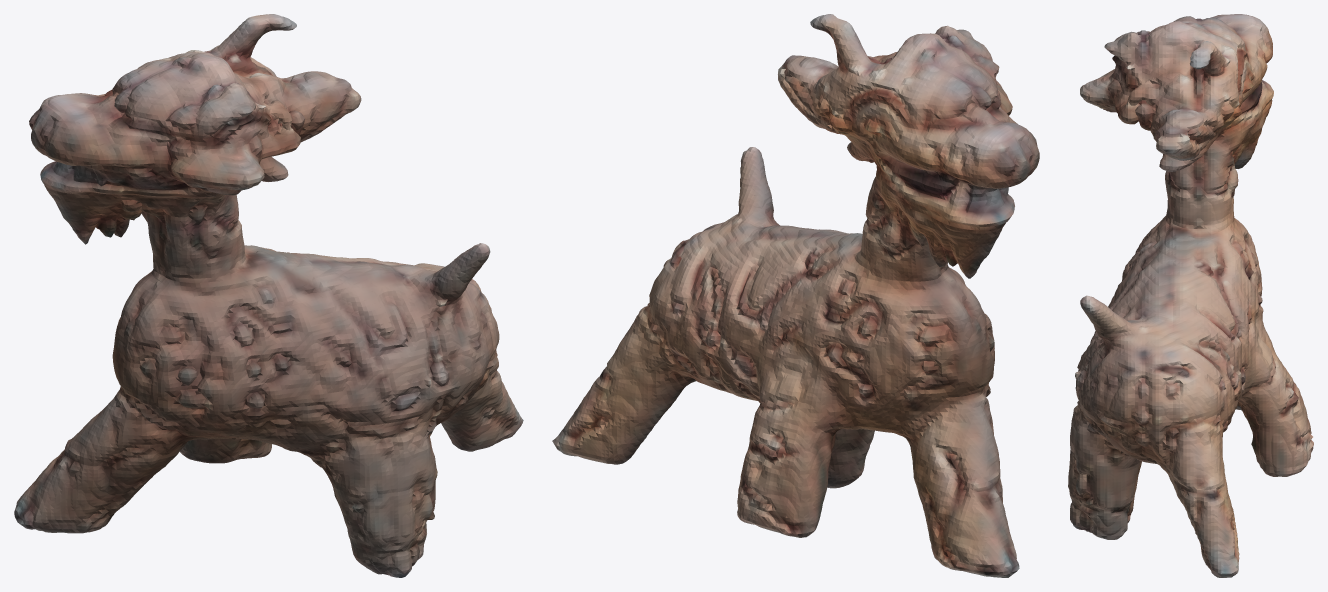
Rendered from jawatengah.glb.
3 views of the same model, side by side, from view 1: azimuth 30°, elevation 25°; view 2: azimuth 150°, elevation 25°; view 3: azimuth 270°, elevation 25° (orthographic). The views are drawn at different scales.
Visible parts, largest first — view 1: world; view 2: world; view 3: world.
Part boxes in pixels (left/top/right/bottom): world: left=14, top=14, right=523, bottom=577; world: left=552, top=14, right=1039, bottom=577; world: left=1068, top=14, right=1313, bottom=577.
Size of the model in its own units: 0.9564 by 0.9896 by 0.4855.
